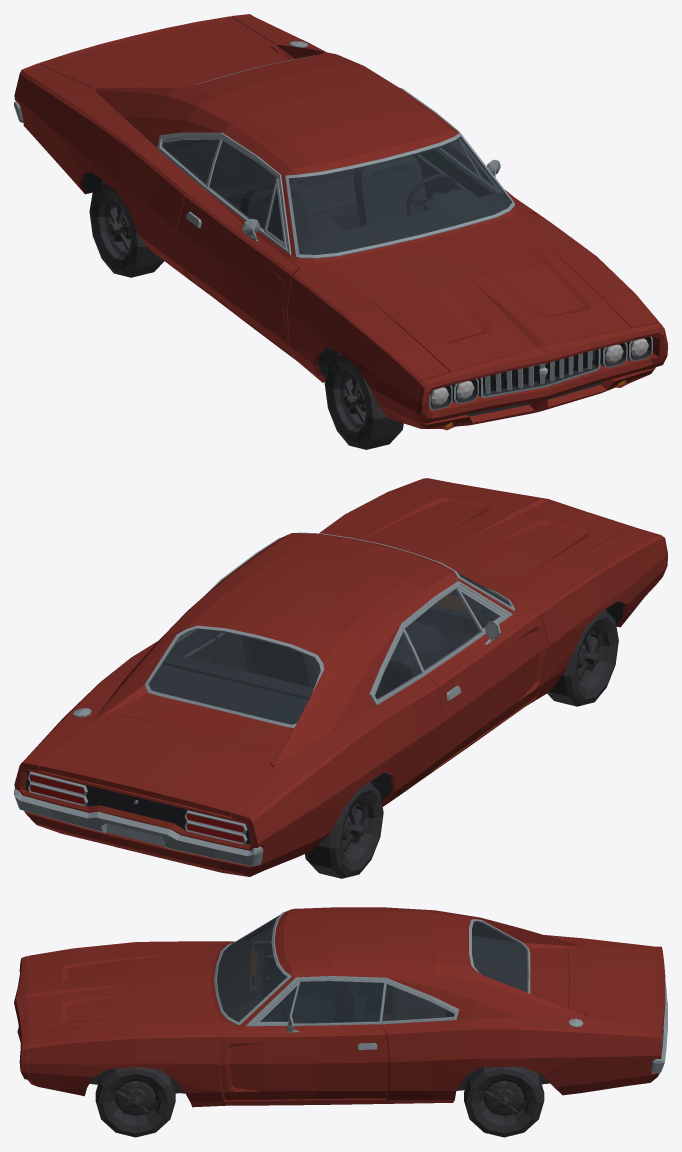
File: redline_street_muscle.glb
3 views of the same model, one above another, from view 1: azimuth 30°, elevation 25°; view 2: azimuth 150°, elevation 25°; view 3: azimuth 270°, elevation 25° (orthographic). The views are drawn at different scales.
Visible parts, largest first — view 1: Body, Hood, Glass, Door_R, Trunk, Wheel_FR, Wheel_RR, Door_L; view 2: Body, Hood, Door_R, Trunk, Glass, Wheel_RR, Wheel_FR, Door_L; view 3: Body, Door_L, Hood, Glass, Trunk, Wheel_RL, Wheel_FL, Door_R.
Part boxes in pixels (box(x1,y1,x2,y2)): Body: box(14, 14, 667, 430); Hood: box(338, 227, 630, 372); Glass: box(161, 137, 511, 254); Door_R: box(177, 141, 299, 355); Trunk: box(39, 16, 276, 88); Wheel_FR: box(324, 353, 403, 449); Wheel_RR: box(89, 181, 164, 277); Door_L: box(418, 139, 539, 214); Body: box(14, 478, 667, 876); Hood: box(350, 483, 630, 590); Door_R: box(405, 587, 548, 768); Trunk: box(39, 713, 277, 816); Glass: box(148, 572, 510, 724); Wheel_RR: box(305, 782, 383, 878); Wheel_FR: box(547, 609, 618, 706); Door_L: box(214, 632, 247, 671); Body: box(14, 907, 667, 1107); Door_L: box(220, 981, 388, 1100); Hood: box(26, 949, 200, 1034); Glass: box(217, 915, 528, 1021); Trunk: box(567, 947, 665, 1026); Wheel_RL: box(464, 1066, 544, 1137); Wheel_FL: box(95, 1067, 175, 1137); Door_R: box(223, 929, 378, 1012).
Size of the model in its own units: 1.65 by 1.18 by 4.4.
Materials: 3 (1 with a texture image).
